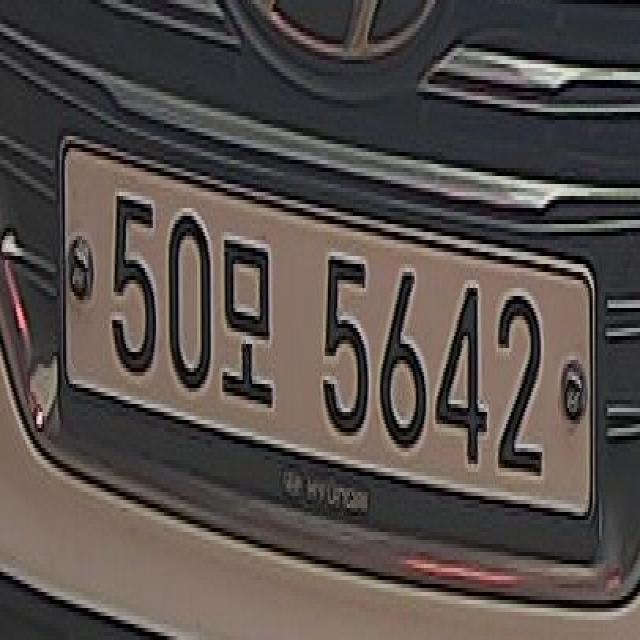0: (167, 203, 213, 394)
2: (494, 284, 550, 490)
4: (434, 272, 490, 478)
5: (322, 251, 372, 450), (108, 190, 158, 381)
6: (378, 260, 430, 460)
license_plate: (57, 126, 594, 536)
mo: (220, 238, 276, 418)
